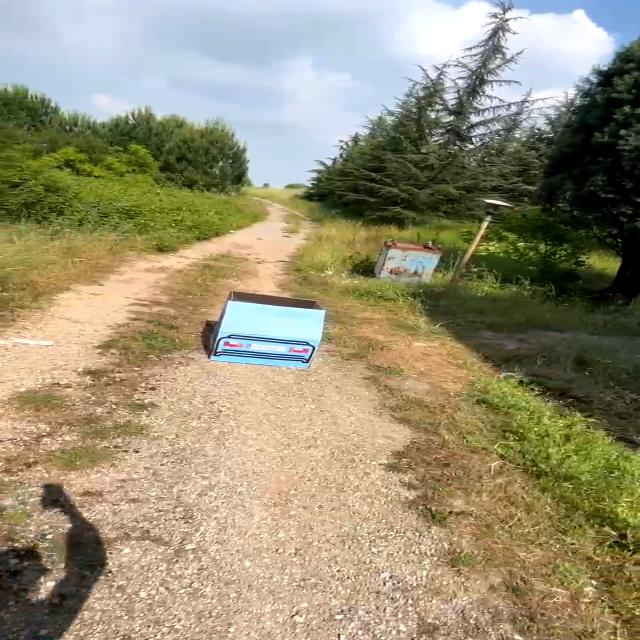blue_car: (190, 286, 336, 383)
